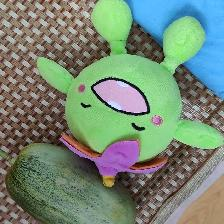gua: (15, 155, 115, 224)
